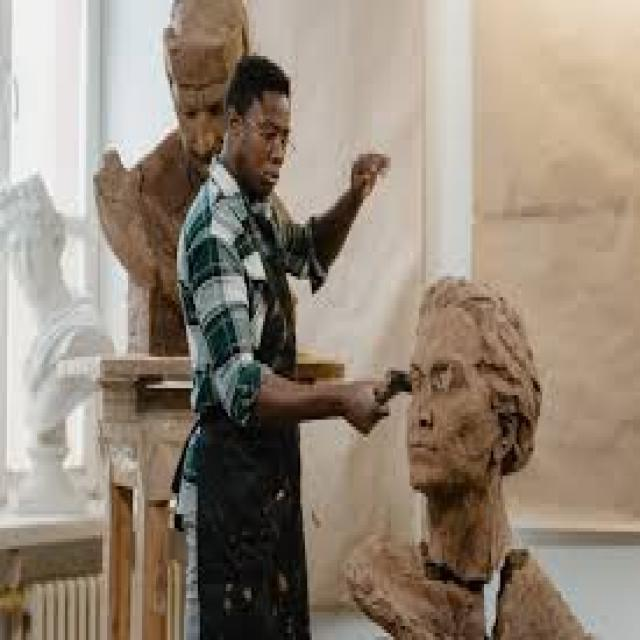hammer: (368, 356, 423, 434)
